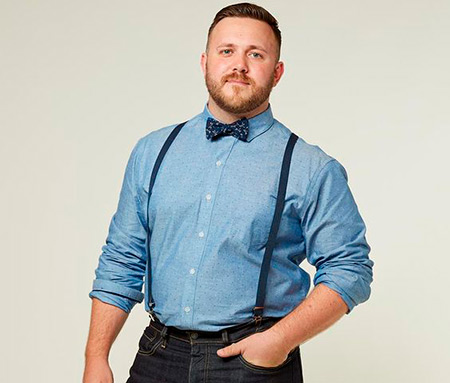bow: (198, 114, 257, 148)
